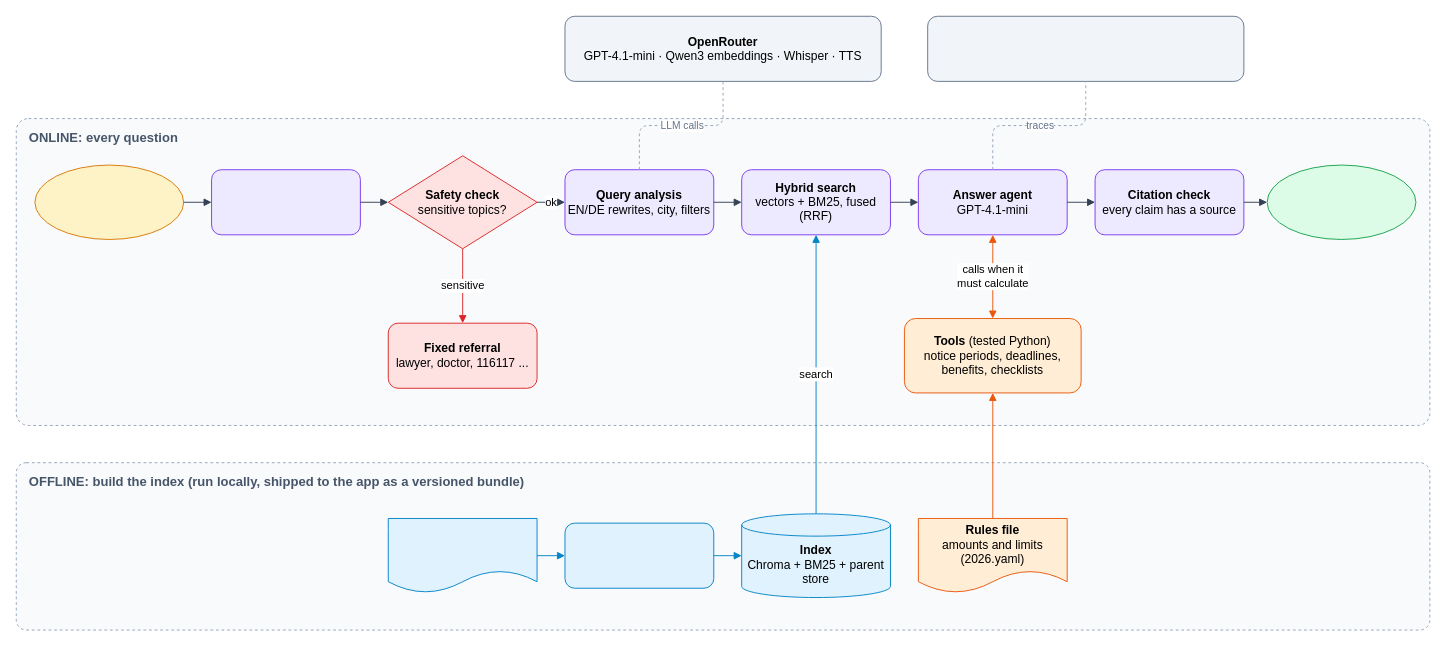
The diagram is 1446 pixels wide and 646 high, and some of its shapes have lost their labels. Each missing label, with the centre of its shape:
"78 official sources laws + government sites" goes at [462,555].
"Answer with sources and steps, read aloud on request" goes at [1341,201].
"Ingestion parse, chunk by §, add metadata" goes at [639,555].
"LangSmith tracing + evaluation" goes at [1085,48].
"Streamlit app chat, profile, voice" goes at [285,202].
"User types or speaks (English / Deutsch)" goes at [109,201].
